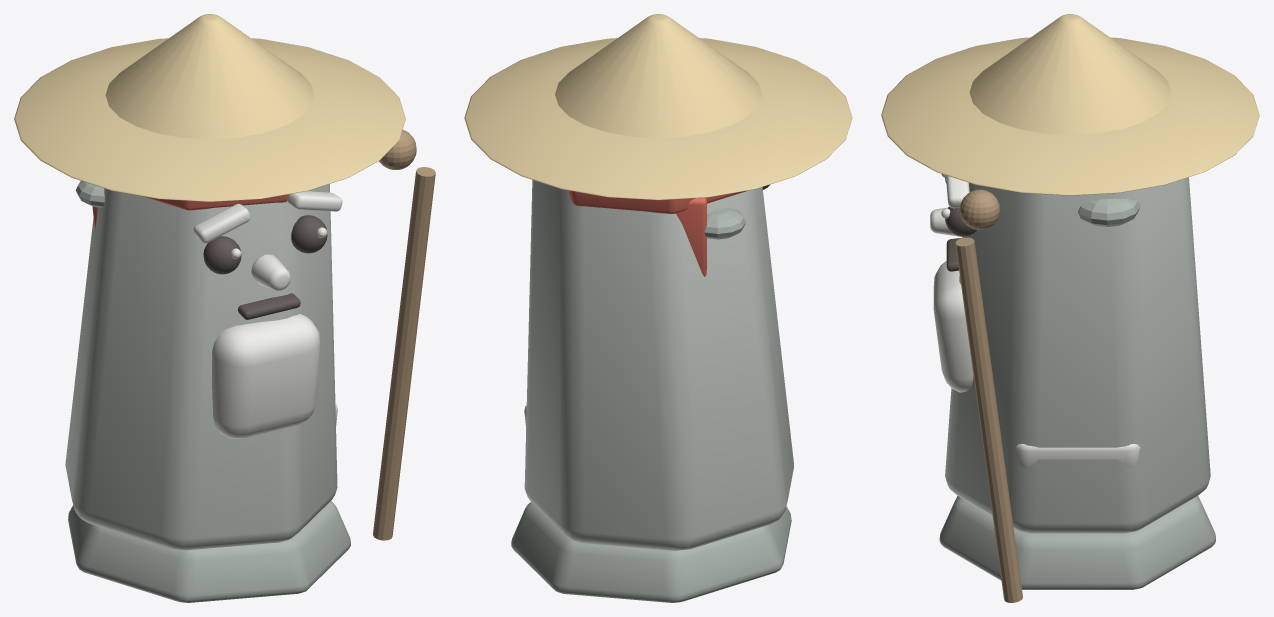
The model's file is grandpa-boundary.glb.
The picture shows the model from 3 angles, left to right: view 1: azimuth 30°, elevation 25°; view 2: azimuth 150°, elevation 25°; view 3: azimuth 270°, elevation 25°; orthographic projection. The views are drawn at different scales.
Parts seen in each view (by area): view 1: GrandpaBoundary; view 2: GrandpaBoundary; view 3: GrandpaBoundary.
Boxes of the visible parts, left/top/right/bottom form: GrandpaBoundary: left=14, top=14, right=435, bottom=602; GrandpaBoundary: left=464, top=14, right=852, bottom=602; GrandpaBoundary: left=881, top=14, right=1259, bottom=602.
Size of the model in its own units: 1.03 by 1.56 by 1.03.
